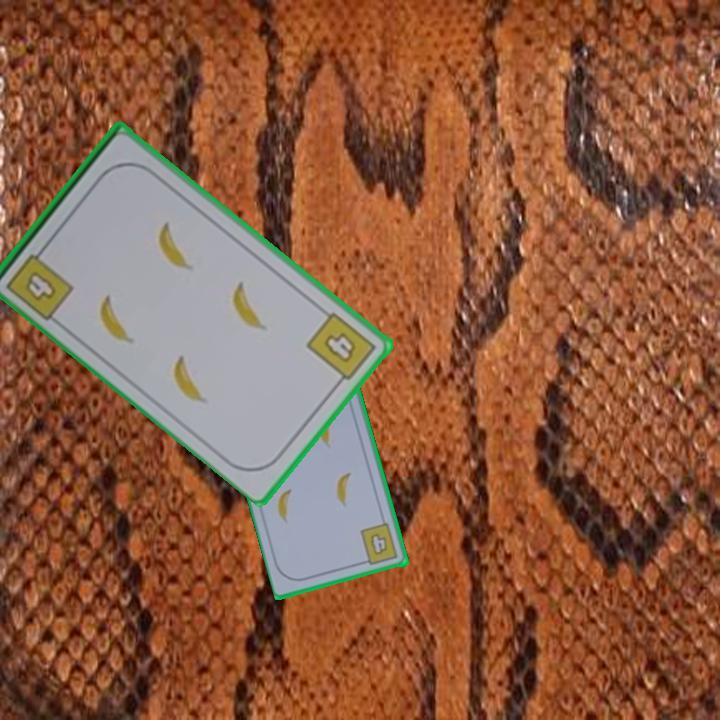4b: (302, 308, 379, 390), (2, 240, 74, 323), (357, 520, 401, 568)
